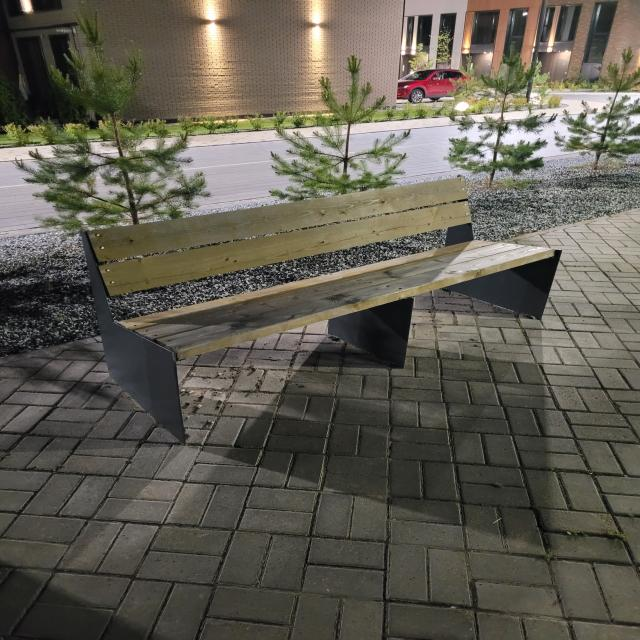Bench: (81, 177, 562, 446)
